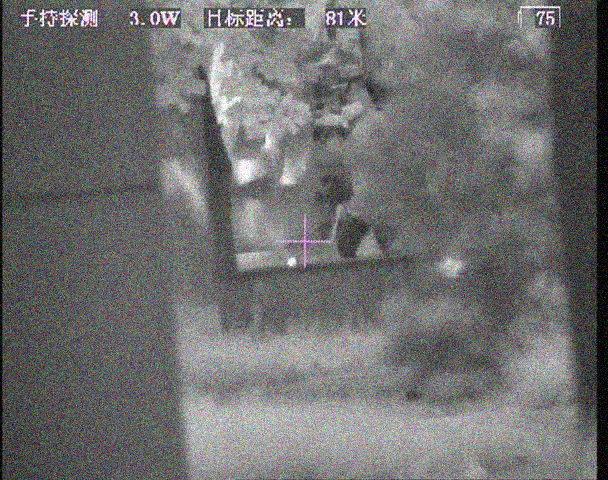my: (286, 256, 298, 267)
